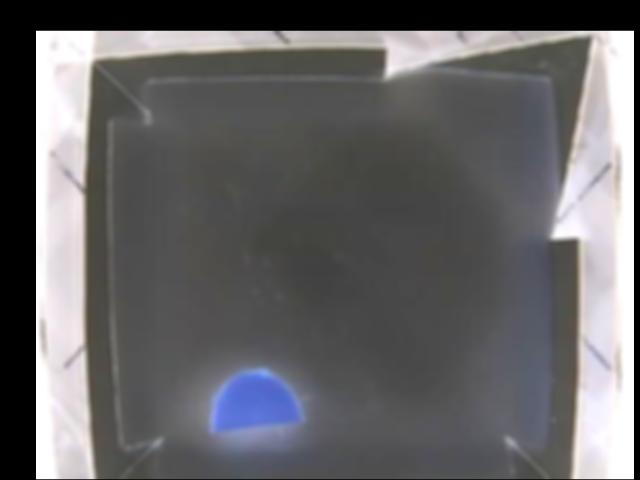Potato: (208, 367, 302, 437)
